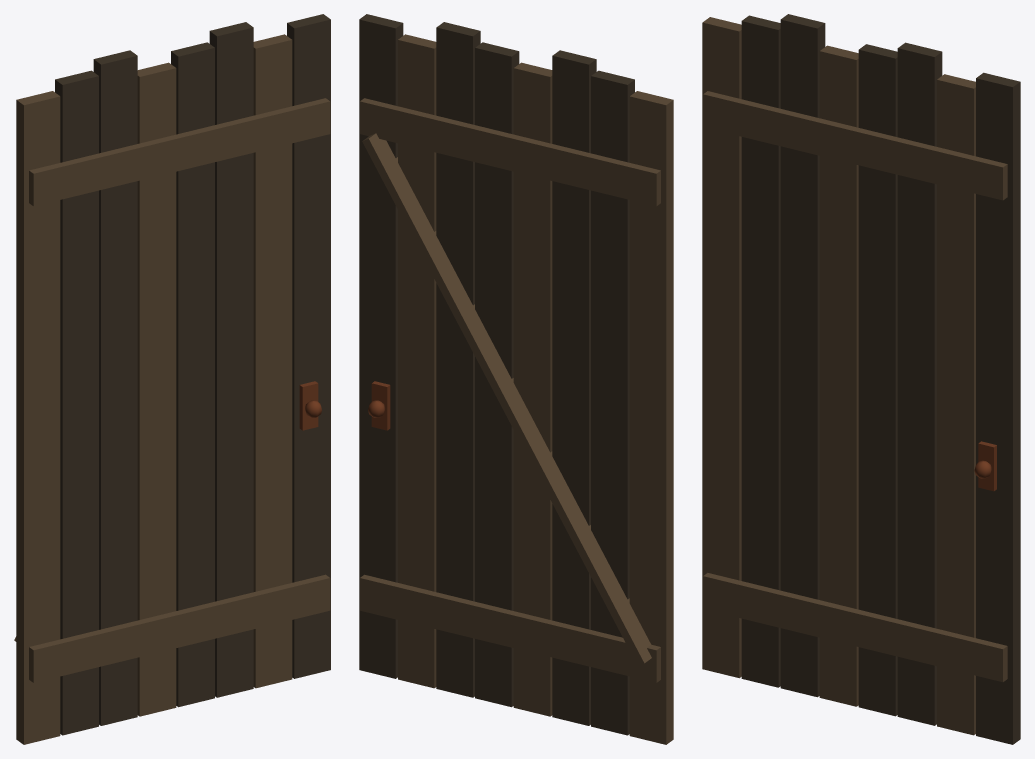
Rendered from SM_Door_abandoned_120x240.fbx.
The picture shows the model from 3 angles, left to right: view 1: azimuth 30°, elevation 25°; view 2: azimuth 150°, elevation 25°; view 3: azimuth 330°, elevation 25°; orthographic projection.
Parts seen in each view (by area): view 1: SM_Door_abandoned_120x240; view 2: SM_Door_abandoned_120x240; view 3: SM_Door_abandoned_120x240.
Part boxes in pixels (x1=…): SM_Door_abandoned_120x240: x1=14, y1=14, x2=330, y2=744; SM_Door_abandoned_120x240: x1=359, y1=14, x2=673, y2=744; SM_Door_abandoned_120x240: x1=702, y1=14, x2=1020, y2=744.
Size of the model in its own units: 1.18 by 2.43 by 0.2.
